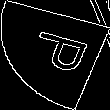P_E: (17, 29, 93, 81)
